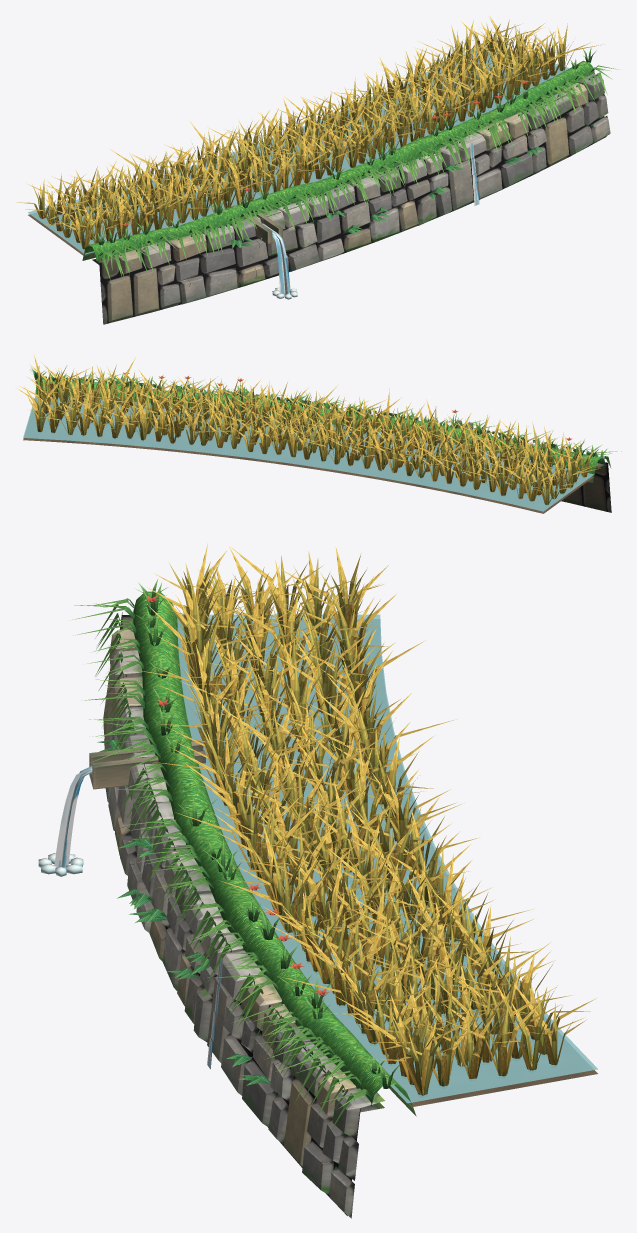
Rendered from terrace_convex_ripe.glb.
The picture shows the model from 3 angles, top to bottom: view 1: azimuth 30°, elevation 25°; view 2: azimuth 150°, elevation 25°; view 3: azimuth 270°, elevation 25°; orthographic projection. The views are drawn at different scales.
Parts seen in each view (by area): view 1: terrace_convex_ripe_plants, terrace_convex_ripe_wall, terrace_convex_ripe_dike, terrace_convex_ripe_water, terrace_convex_ripe_spout_fall, terrace_convex_ripe_spout; view 2: terrace_convex_ripe_plants, terrace_convex_ripe_water, terrace_convex_ripe_dike, terrace_convex_ripe_wall; view 3: terrace_convex_ripe_plants, terrace_convex_ripe_wall, terrace_convex_ripe_water, terrace_convex_ripe_dike, terrace_convex_ripe_spout, terrace_convex_ripe_spout_fall.
Boxes of the visible parts, bbox=[...] form: terrace_convex_ripe_plants: bbox=[16, 15, 618, 280]; terrace_convex_ripe_wall: bbox=[92, 73, 610, 324]; terrace_convex_ripe_dike: bbox=[28, 55, 594, 260]; terrace_convex_ripe_water: bbox=[28, 43, 569, 254]; terrace_convex_ripe_spout_fall: bbox=[262, 223, 290, 294]; terrace_convex_ripe_spout: bbox=[230, 202, 282, 244]; terrace_convex_ripe_plants: bbox=[17, 355, 621, 504]; terrace_convex_ripe_water: bbox=[23, 395, 594, 511]; terrace_convex_ripe_dike: bbox=[23, 378, 605, 513]; terrace_convex_ripe_wall: bbox=[151, 388, 611, 512]; terrace_convex_ripe_plants: bbox=[72, 543, 596, 1130]; terrace_convex_ripe_wall: bbox=[103, 612, 384, 1218]; terrace_convex_ripe_water: bbox=[177, 614, 597, 1103]; terrace_convex_ripe_dike: bbox=[133, 591, 597, 1116]; terrace_convex_ripe_spout: bbox=[89, 741, 205, 789]; terrace_convex_ripe_spout_fall: bbox=[54, 766, 92, 867].
Bounding box in the file's own units: 12.5 × 1.95 × 5.53.
6 materials, 5 textured.
